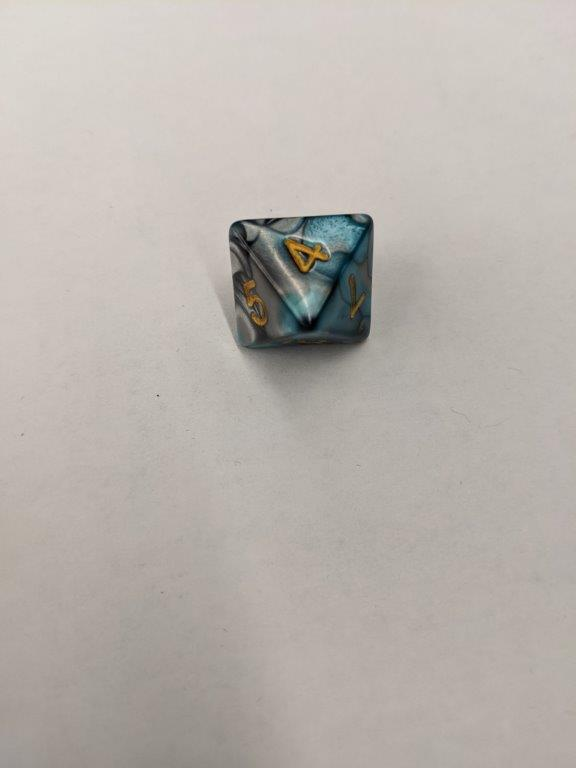d8-4: (227, 212, 373, 348)
